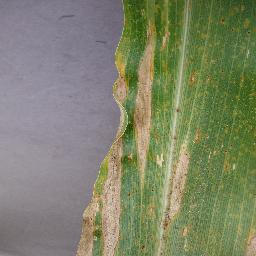Corn_Blight: (74, 39, 134, 256), (133, 8, 174, 189), (171, 124, 207, 255), (137, 195, 166, 256), (209, 3, 255, 40), (179, 52, 214, 98), (235, 207, 256, 256), (218, 143, 238, 182)
